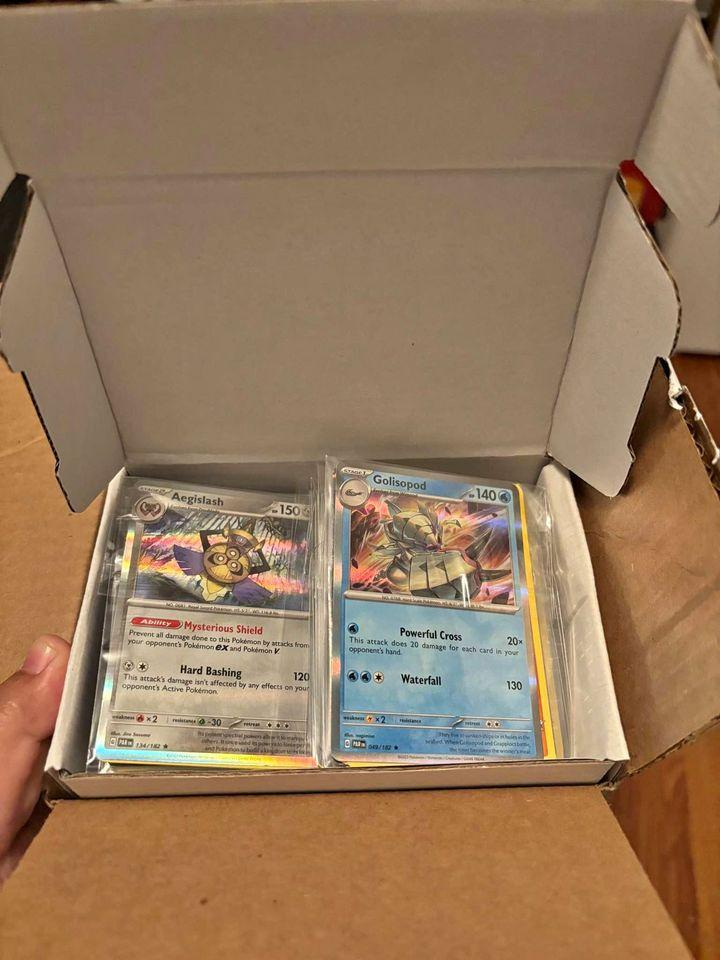card: (92, 478, 322, 770), (329, 457, 545, 764)
